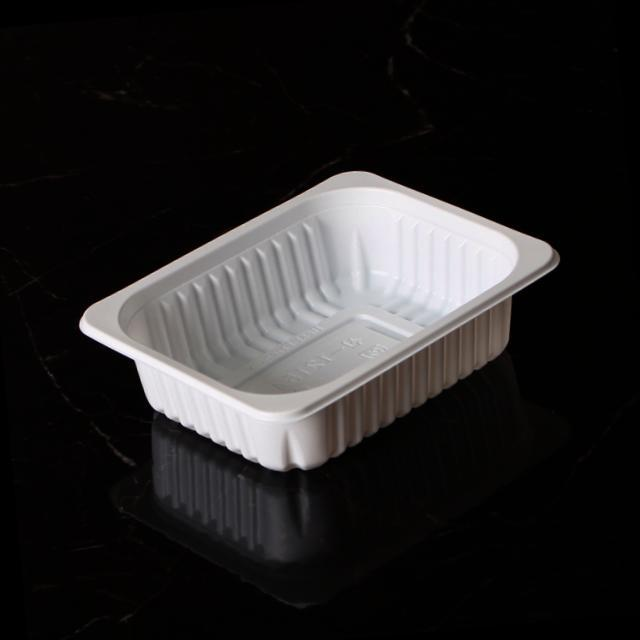container: (58, 120, 588, 506)
